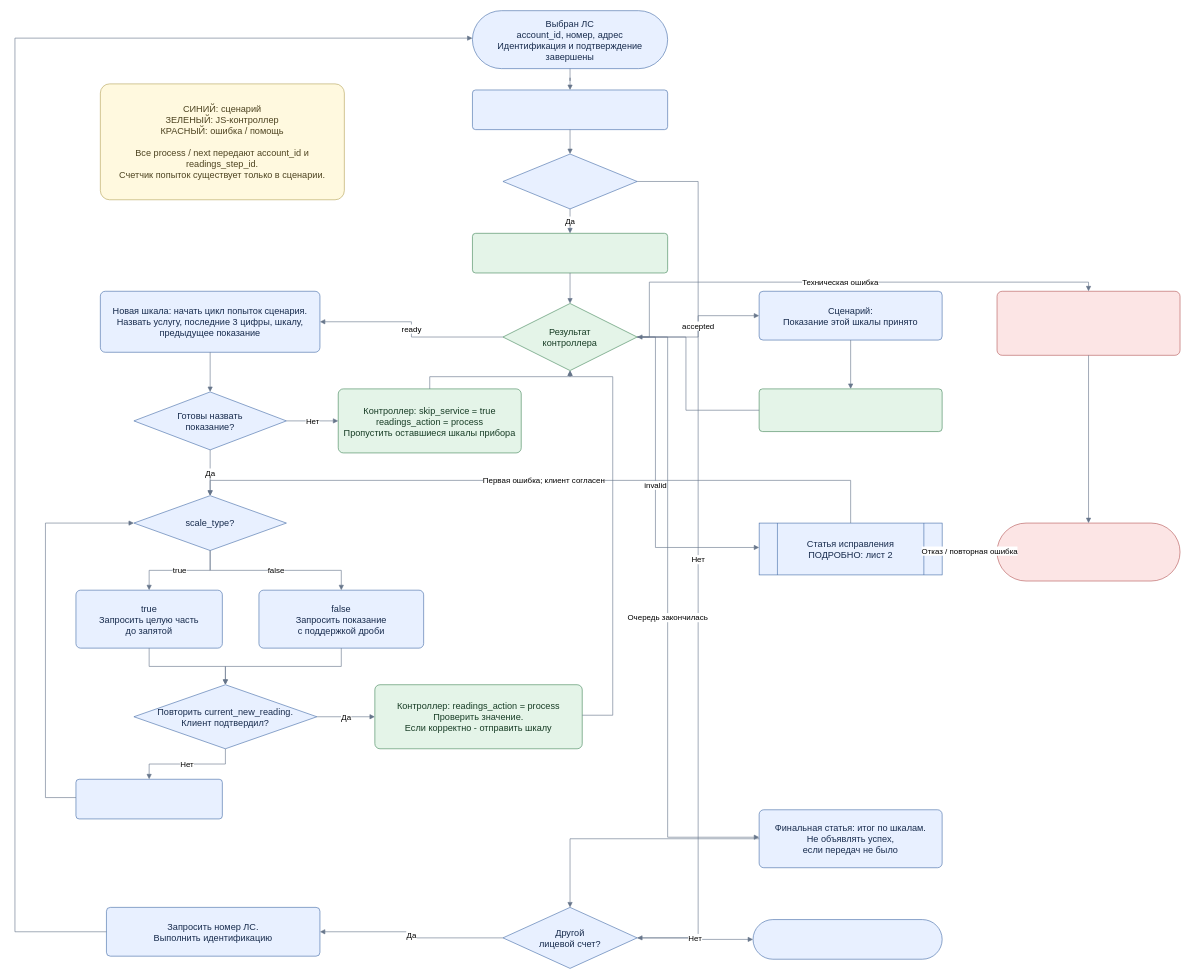
The diagram is 1191 pixels wide and 979 high, and some of its shapes have lost their labels. Here are the shapes that lost their labels. From the top down, the box of each, then its label:
(472, 89, 668, 130): Вводная реплика один раз на ЛС
(502, 153, 637, 209): Начнем прием?
(472, 233, 668, 273): Контроллер readings_action = init
(996, 291, 1180, 355): Техническая статья: Не удалось подтвердить передачу. Без автоматического повтора
(759, 388, 942, 432): Контроллер readings_action = next
(996, 522, 1180, 581): Существующий маршрут помощи / оператора с проверкой доступности
(75, 779, 222, 819): Очистить current_new_reading
(752, 919, 942, 959): Завершение диалога
